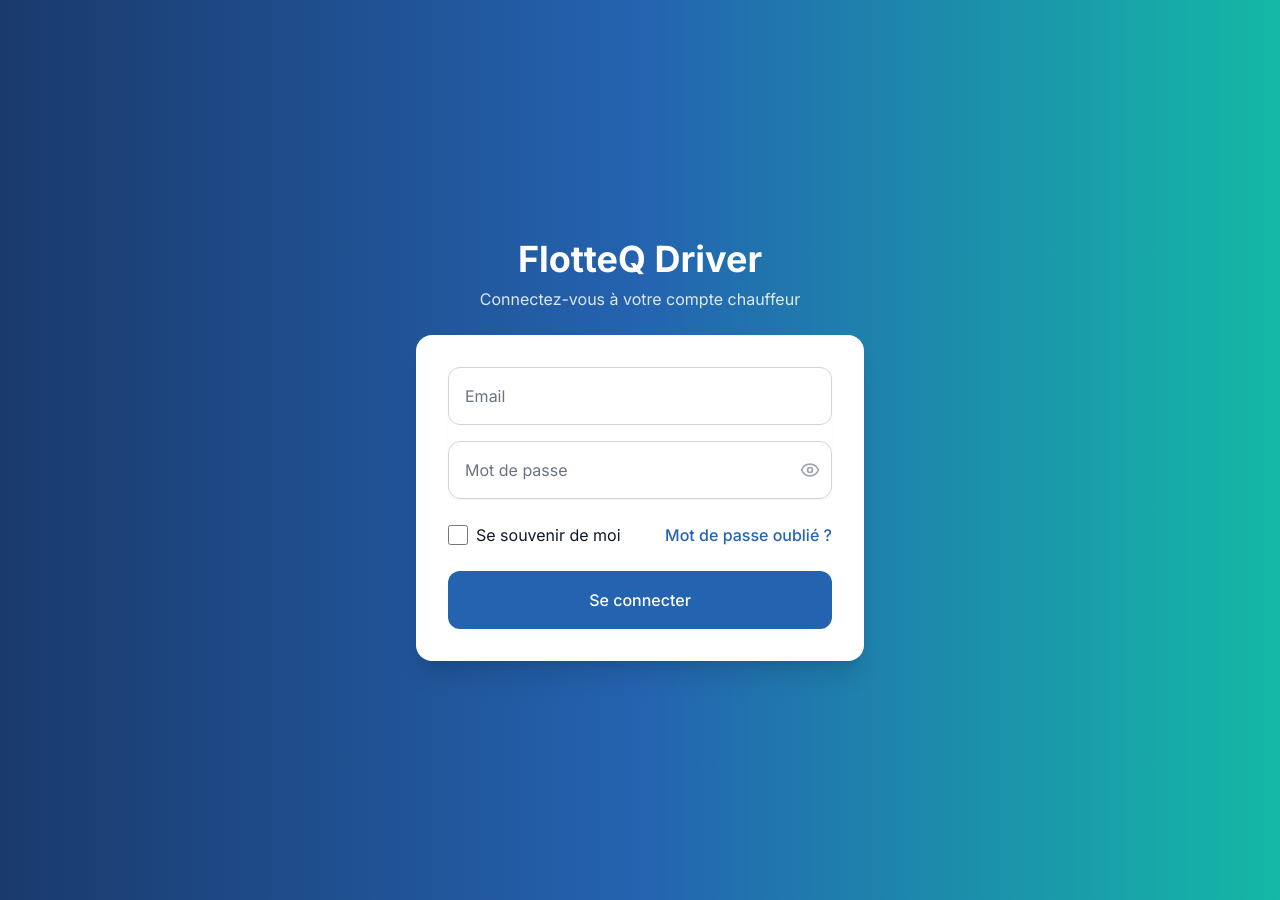
Scenario: LoginPage › should show error on failed login
In the field with placeholder "Email": (640, 396) 448,367 -> 832,425, type "wrong@test.com"
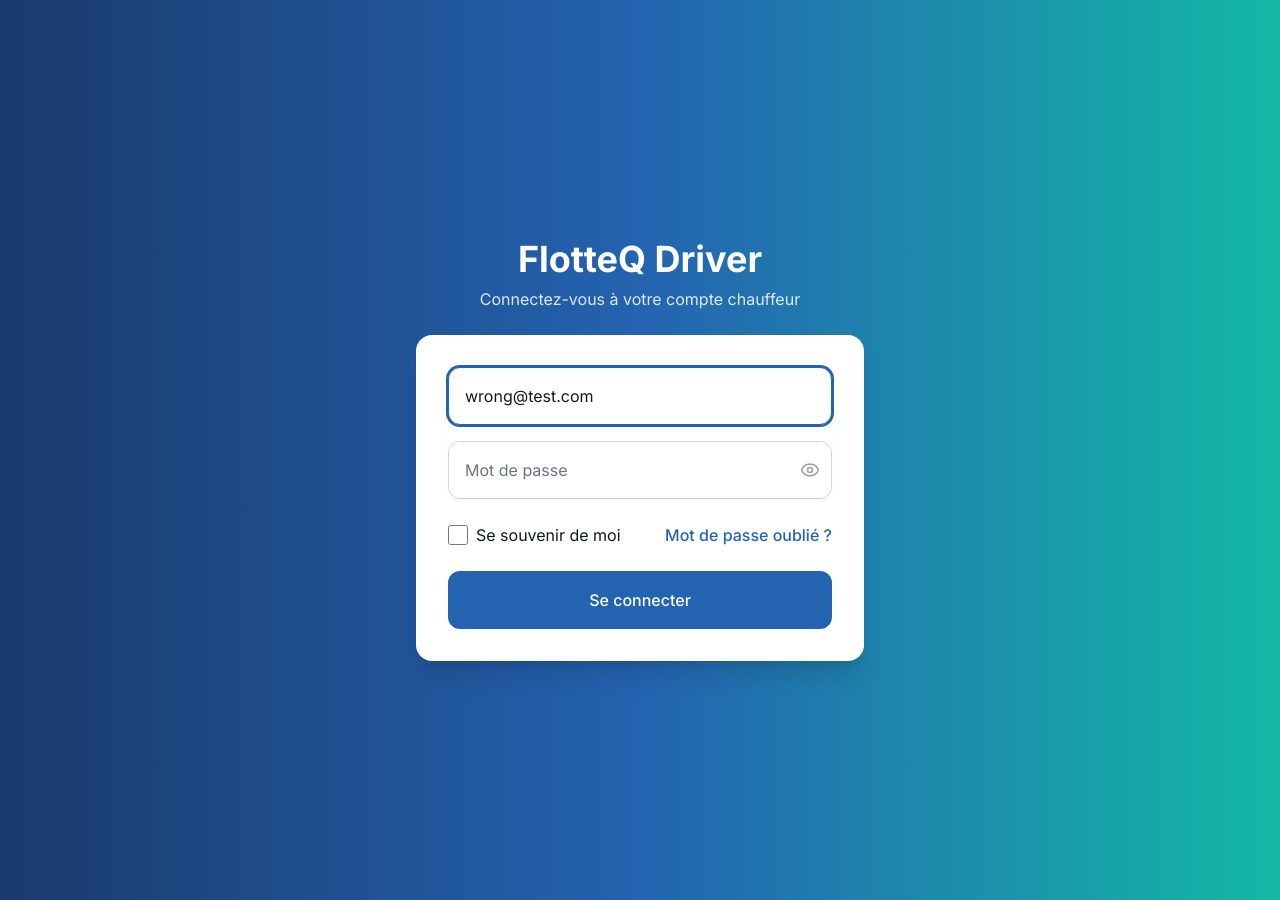
In the password field with placeholder "Mot de passe": (640, 470) 448,441 -> 832,499, type "wrongpass"
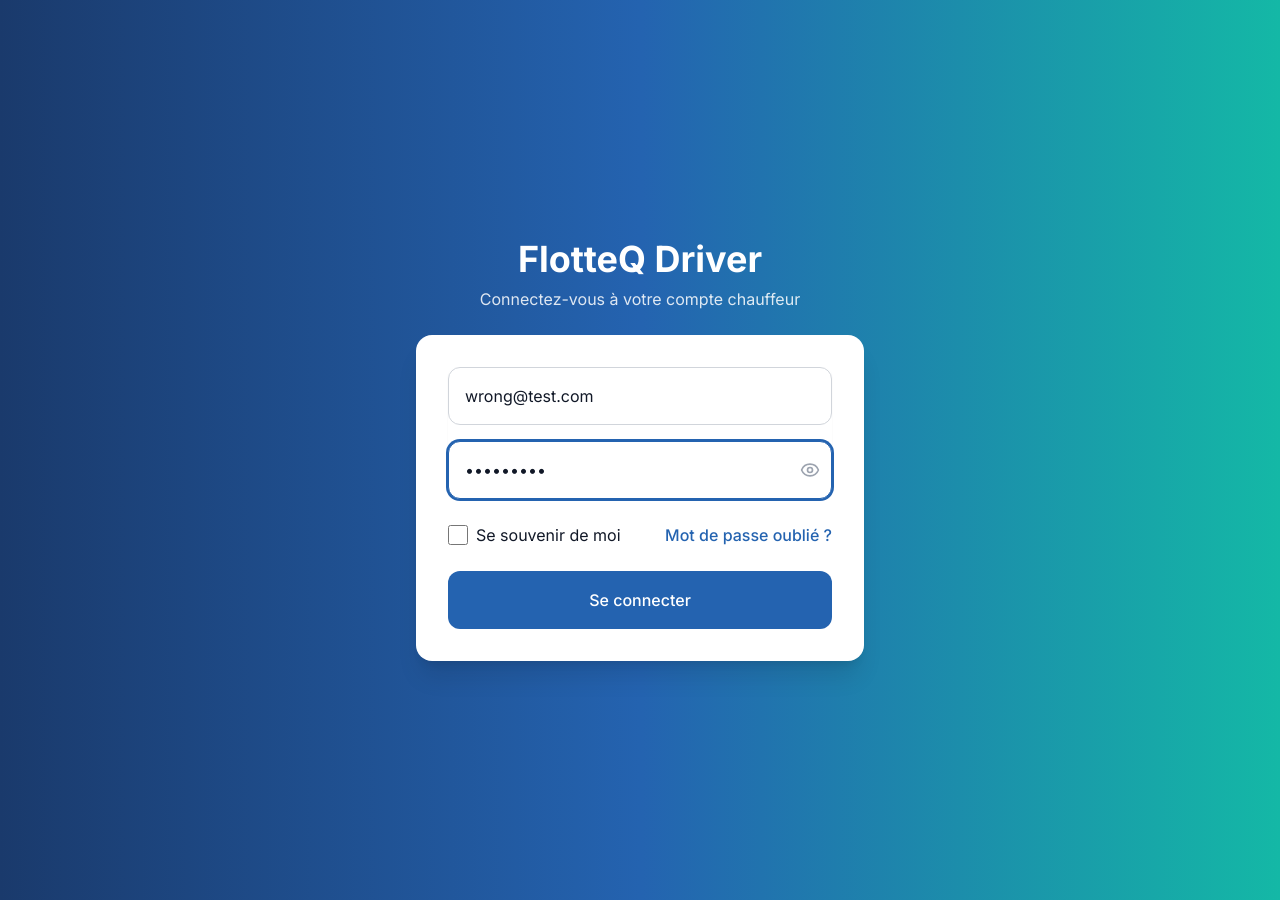
Click the button "Se connecter": (640, 600) 448,571 -> 832,629
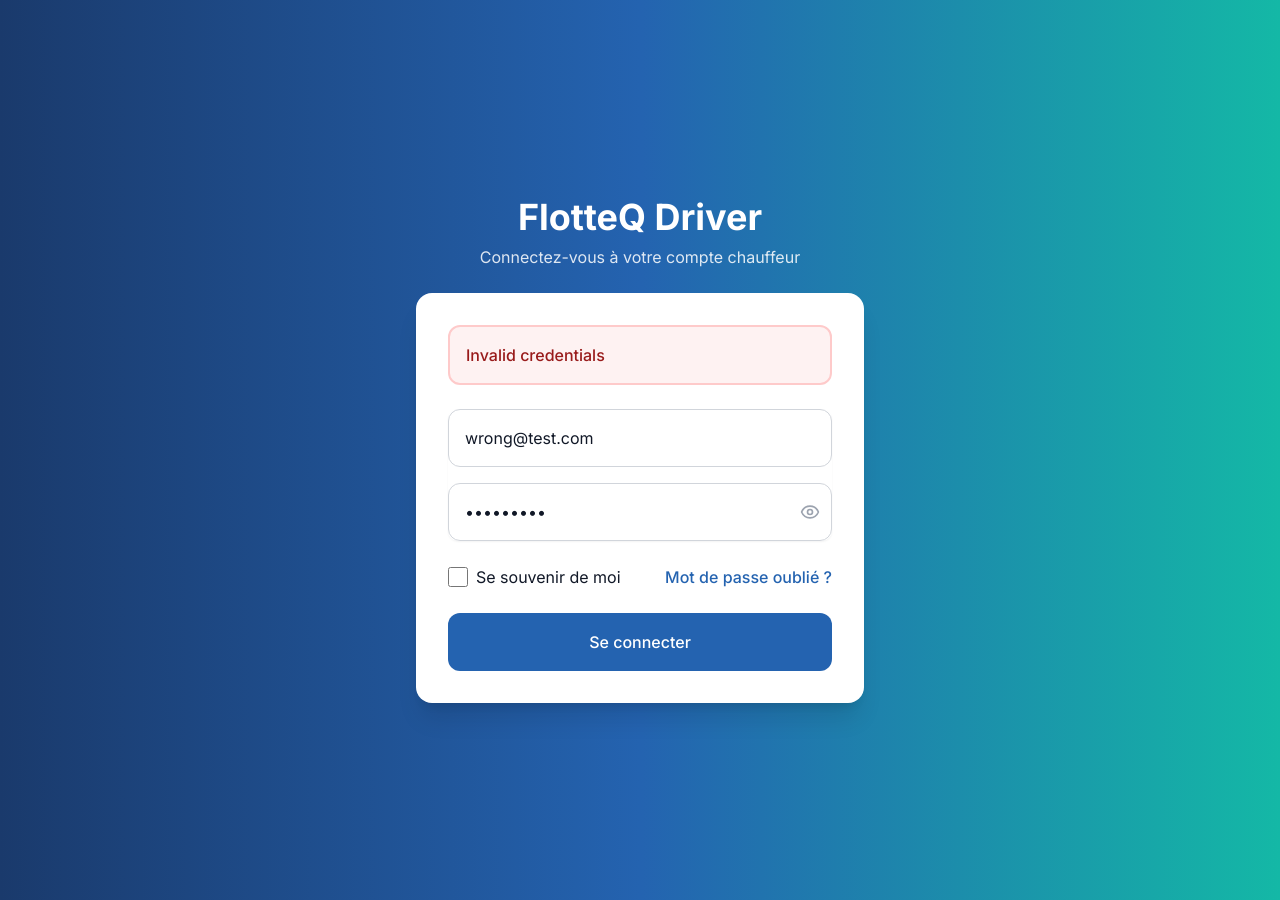
Result: the text "Invalid credentials" is shown at 466,345 -> 605,365
